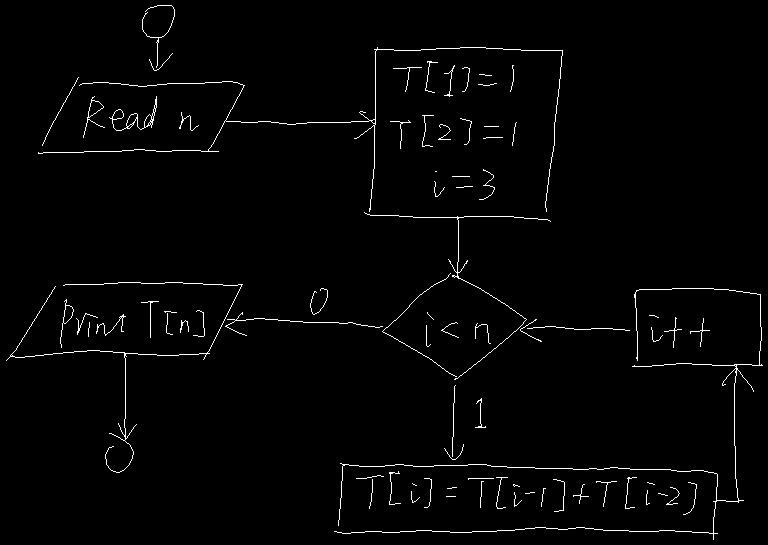arrow: (713, 364, 753, 502), (226, 111, 375, 138), (225, 312, 382, 335), (520, 319, 629, 341), (118, 353, 136, 439), (444, 385, 463, 459), (448, 216, 467, 278), (149, 38, 172, 70)
connection: (105, 433, 133, 472), (142, 5, 174, 37)
data: (6, 282, 242, 360), (38, 77, 244, 153)
decision: (382, 273, 526, 379)
process: (364, 47, 562, 221), (334, 463, 717, 539), (632, 288, 762, 366)
text: (390, 61, 516, 199), (356, 471, 696, 514), (60, 299, 204, 347), (83, 96, 198, 137), (426, 312, 490, 346), (649, 315, 709, 347), (310, 288, 327, 314), (475, 398, 485, 427)
